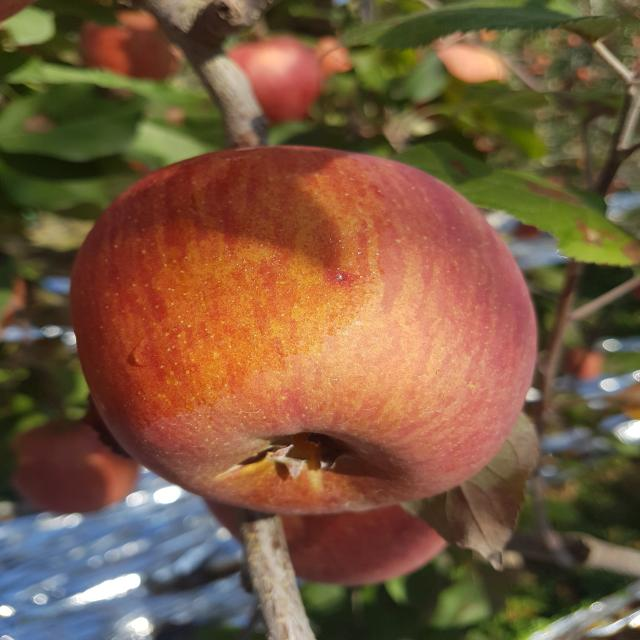fresh: (63, 141, 547, 528)
